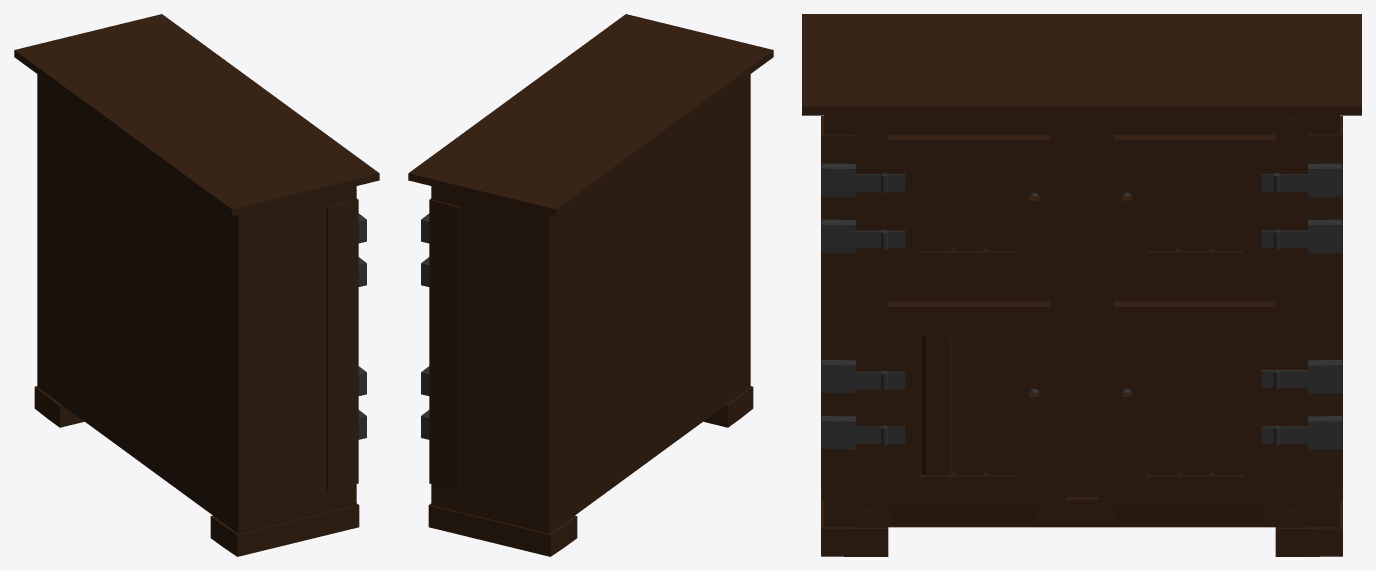
The model's file is Wardrobe.fbx.
3 views of the same model, side by side, from view 1: azimuth 30°, elevation 25°; view 2: azimuth 150°, elevation 25°; view 3: azimuth 270°, elevation 25° (orthographic). The views are drawn at different scales.
Parts seen in each view (by area): view 1: Cylinder.015; view 2: Cylinder.015; view 3: Cylinder.015.
Part boxes in pixels (<box>): Cylinder.015: <box>14,14,379,556</box>; Cylinder.015: <box>408,14,773,556</box>; Cylinder.015: <box>802,14,1361,556</box>.
Size of the model in its own units: 211 by 461 by 511.
